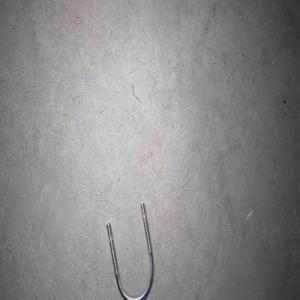ClampPart: (106, 202, 154, 300)
